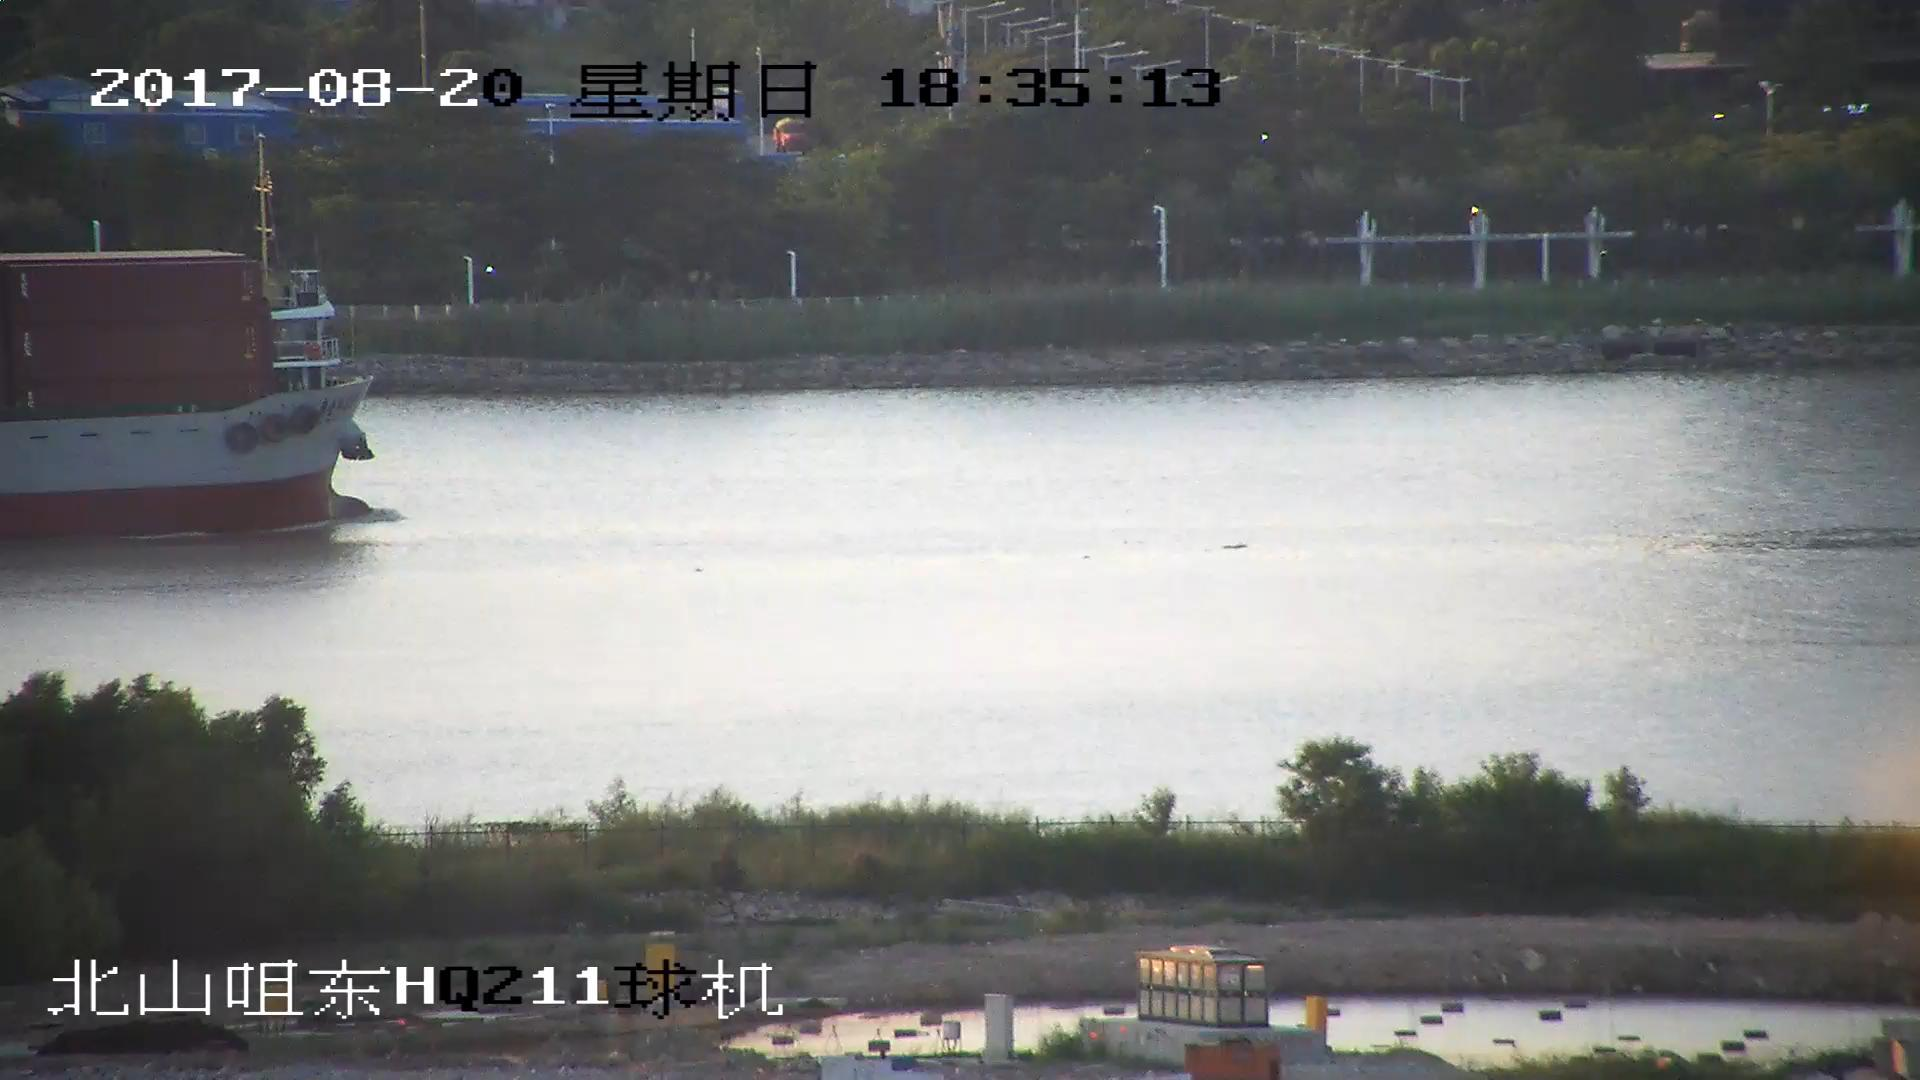Ship: (3, 243, 375, 547)
